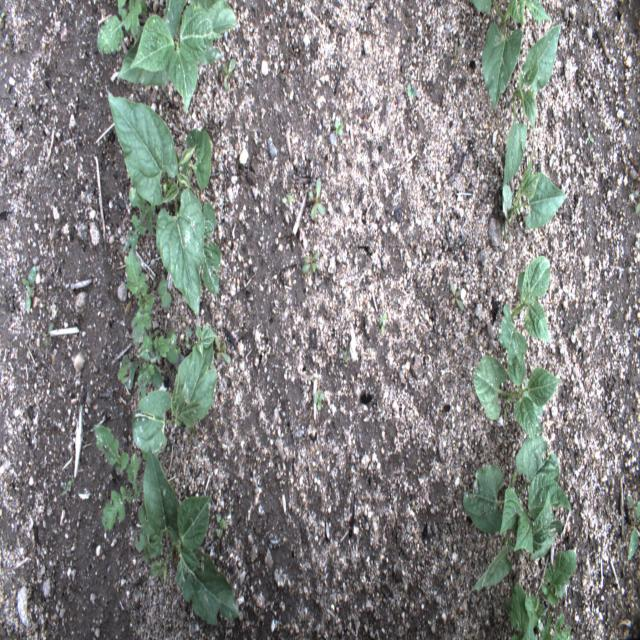crop: (108, 95, 221, 318), (140, 447, 240, 629), (461, 437, 572, 596), (116, 0, 238, 117), (499, 22, 562, 189), (470, 0, 552, 114), (134, 345, 216, 451), (472, 352, 562, 436), (499, 154, 568, 242), (498, 253, 552, 364), (184, 325, 212, 349), (526, 619, 537, 639)
weed: (502, 544, 578, 639), (94, 422, 140, 534), (118, 331, 180, 396), (124, 236, 153, 347), (133, 494, 167, 586), (96, 0, 148, 55), (124, 190, 156, 253), (625, 495, 639, 562), (307, 176, 326, 223), (21, 269, 37, 311), (218, 57, 236, 91), (215, 332, 231, 367), (158, 280, 172, 315), (213, 512, 227, 542), (450, 282, 464, 312), (301, 251, 320, 273), (42, 321, 55, 350), (180, 425, 197, 444), (450, 40, 460, 68), (312, 389, 324, 411), (378, 310, 388, 335), (406, 82, 418, 99), (60, 480, 70, 500), (633, 188, 640, 216), (630, 153, 638, 175), (334, 119, 343, 137), (340, 346, 350, 362), (281, 194, 294, 206), (587, 130, 594, 144), (0, 10, 5, 26), (70, 477, 76, 490), (573, 321, 578, 336), (45, 304, 51, 316)
